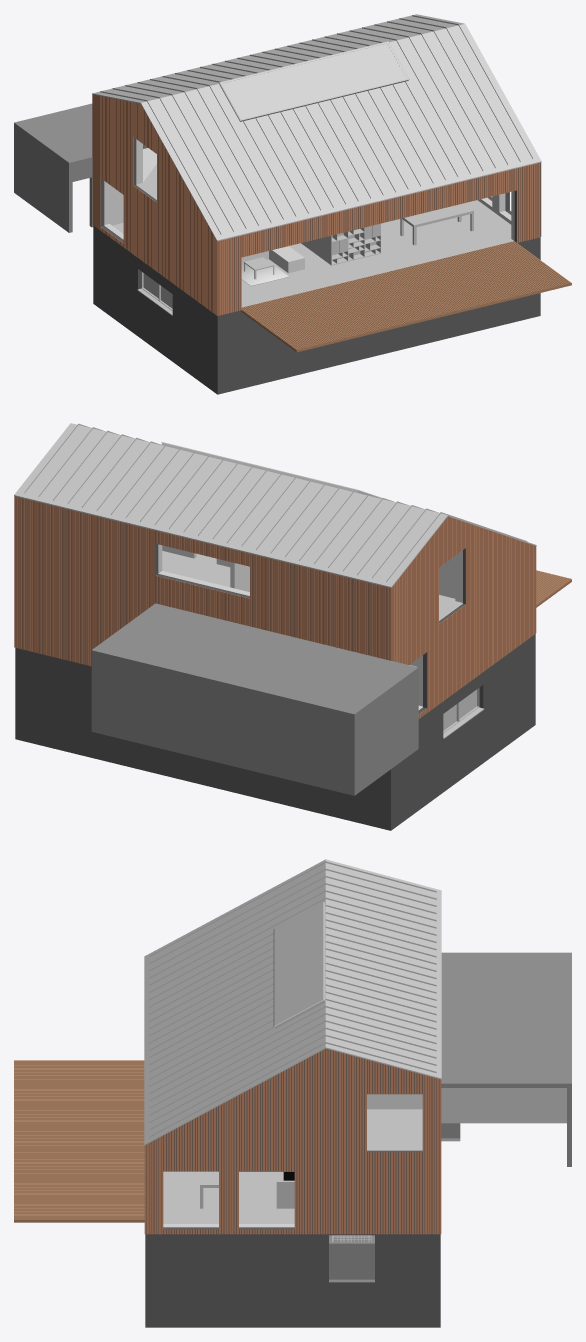
The model's file is VR_haus_langendorf_combined.fbx.
3 renders of one model, top to bottom at view 1: azimuth 30°, elevation 25°; view 2: azimuth 150°, elevation 25°; view 3: azimuth 270°, elevation 25°, orthographic. The views are drawn at different scales.
Visible parts, largest first — view 1: haus, terasse, garage, schrank_wohnzimmer, tisch, sofa, teppich, gelaender_treppe; view 2: haus, garage, terasse; view 3: haus, terasse, garage, garagen_tor, lichtschacht_1, kuecheninsel.
Boxes of the visible parts, x1=… form: haus: x1=92, y1=14, x2=541, y2=394; terasse: x1=241, y1=241, x2=571, y2=352; garage: x1=14, y1=103, x2=93, y2=232; schrank_wohnzimmer: x1=327, y1=223, x2=380, y2=265; tisch: x1=400, y1=203, x2=473, y2=245; sofa: x1=241, y1=246, x2=304, y2=273; teppich: x1=241, y1=265, x2=288, y2=286; gelaender_treppe: x1=301, y1=228, x2=376, y2=261; haus: x1=14, y1=423, x2=536, y2=830; garage: x1=91, y1=603, x2=418, y2=795; terasse: x1=536, y1=570, x2=571, y2=607; haus: x1=144, y1=859, x2=441, y2=1327; terasse: x1=14, y1=1060, x2=144, y2=1222; garage: x1=441, y1=952, x2=571, y2=1166; garagen_tor: x1=441, y1=1088, x2=566, y2=1123; lichtschacht_1: x1=329, y1=1235, x2=374, y2=1282; kuecheninsel: x1=276, y1=1171, x2=294, y2=1208.
Size of what is drawn, in the model's own units: 1510 by 952 by 1700.
